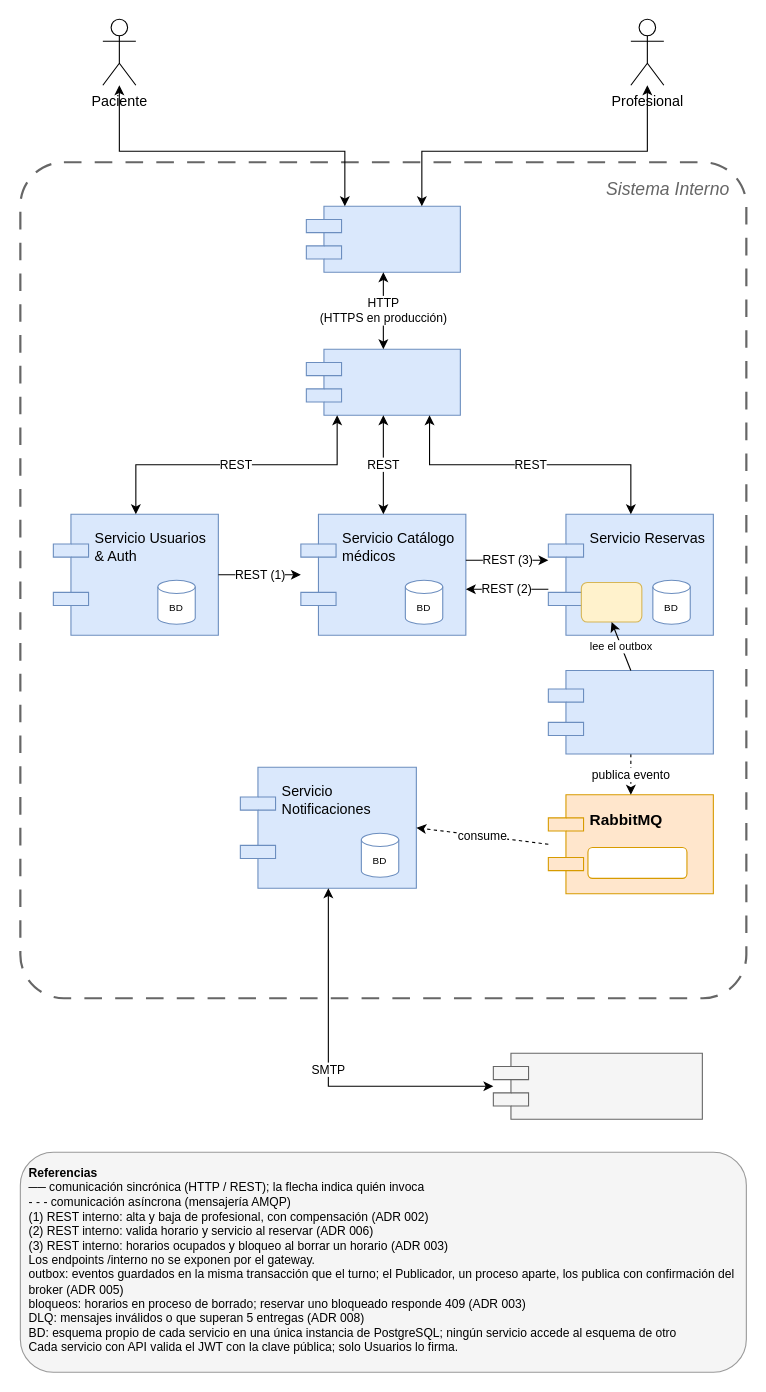
Image size: 766x1392. Some labels were removed from this diagram. The shapes that lost their labels are listed below. From the top down, each one's centre as x and y in pixels, then its label:
(x=382, y=238): Cliente web
(x=382, y=381): API Gateway (Traefik)
(x=611, y=601): outbox bloqueos
(x=630, y=711): Publicador (misma imagen que Reservas)
(x=637, y=862): cola + DLQ
(x=597, y=1085): Sistema correo (Mailpit en desarrollo)
